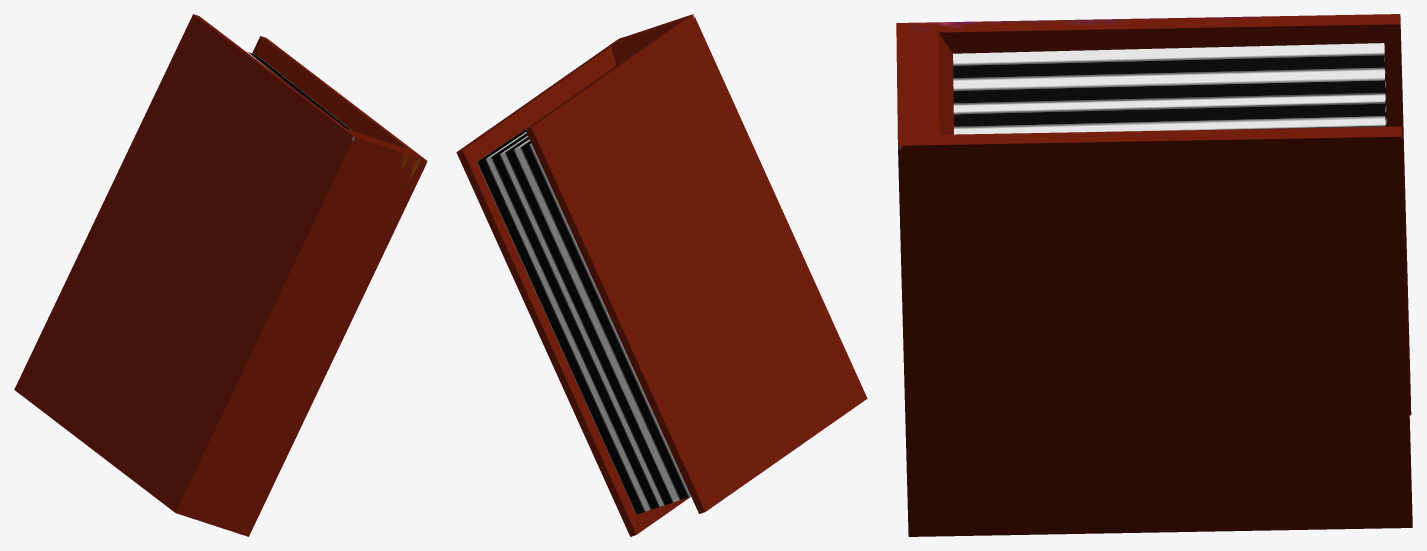
Rendered from Libros_unico.obj.
The picture shows the model from 3 angles, left to right: view 1: azimuth 30°, elevation 25°; view 2: azimuth 150°, elevation 25°; view 3: azimuth 270°, elevation 25°; orthographic projection. The views are drawn at different scales.
Parts seen in each view (by area): view 1: unico; view 2: unico; view 3: unico.
Part boxes in pixels (left/top/right/bottom): unico: left=14, top=14, right=427, bottom=536; unico: left=456, top=14, right=867, bottom=536; unico: left=896, top=14, right=1412, bottom=536.
Bounding box in the file's own units: 1.25 × 1.83 × 1.43.
1 material, 1 textured.
